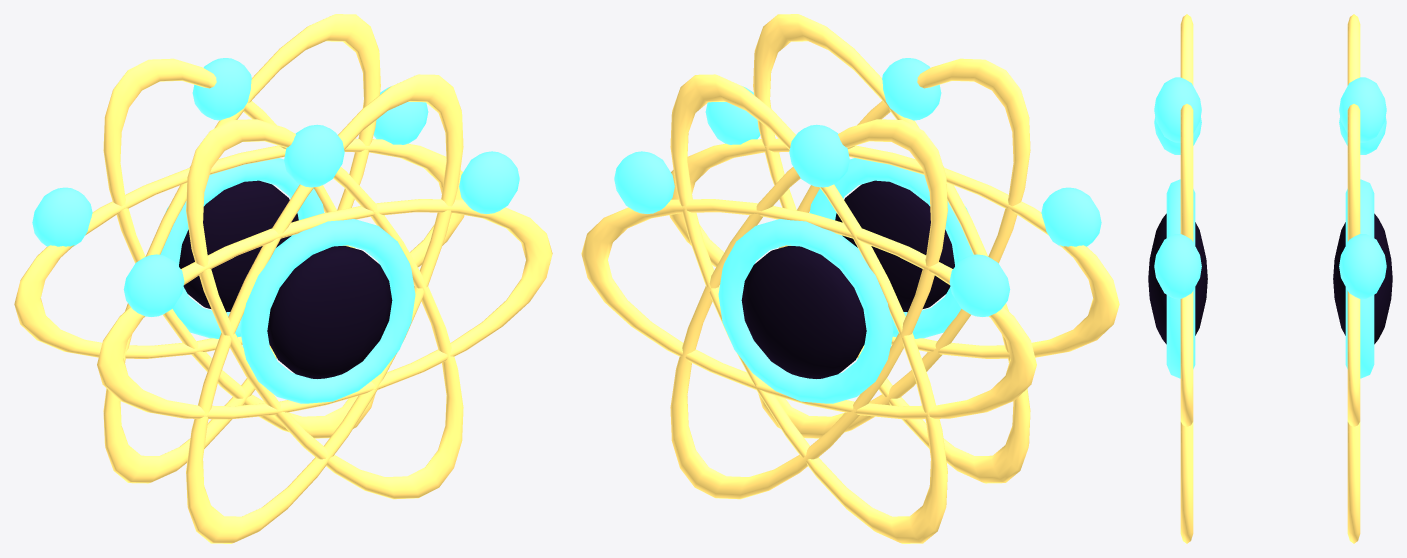
The model's file is hedgeguard_emblem_8.glb.
3 views of the same model, side by side, from view 1: azimuth 30°, elevation 25°; view 2: azimuth 150°, elevation 25°; view 3: azimuth 270°, elevation 25° (orthographic).
Visible parts, largest first — view 1: EmblemAvita; view 2: EmblemAvita; view 3: EmblemAvita.
Part boxes in pixels (x1,y1,x2,y2): EmblemAvita: (14, 14, 552, 543); EmblemAvita: (581, 14, 1119, 543); EmblemAvita: (1148, 14, 1392, 543).
Bounding box in the file's own units: 0.892 × 0.7928 × 0.41.
